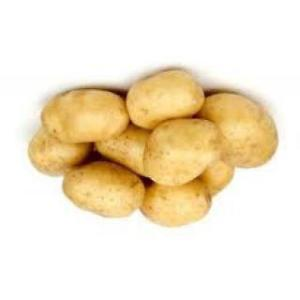potato: (204, 92, 276, 169), (144, 119, 222, 185), (44, 87, 128, 143), (64, 160, 144, 218), (128, 70, 204, 130), (30, 126, 92, 178), (140, 184, 212, 228), (199, 159, 239, 195)
